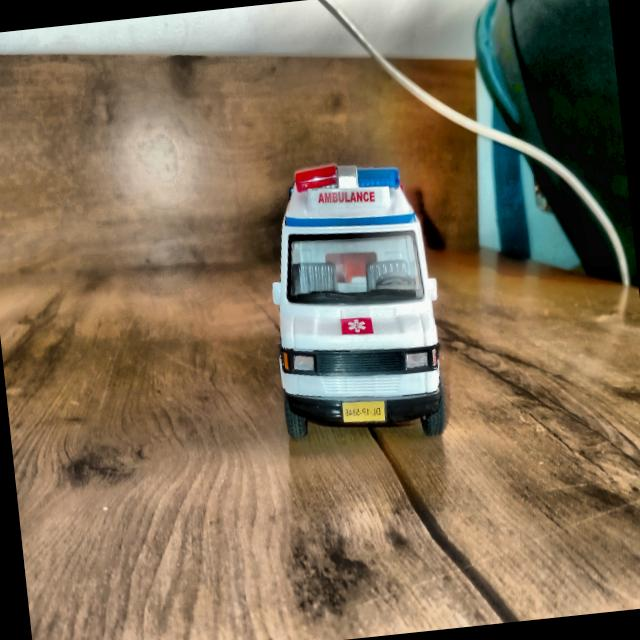Ambulance: (260, 154, 452, 450)
